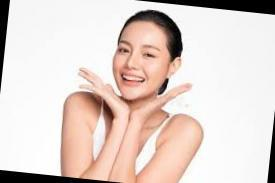Sober: (115, 26, 168, 100)
